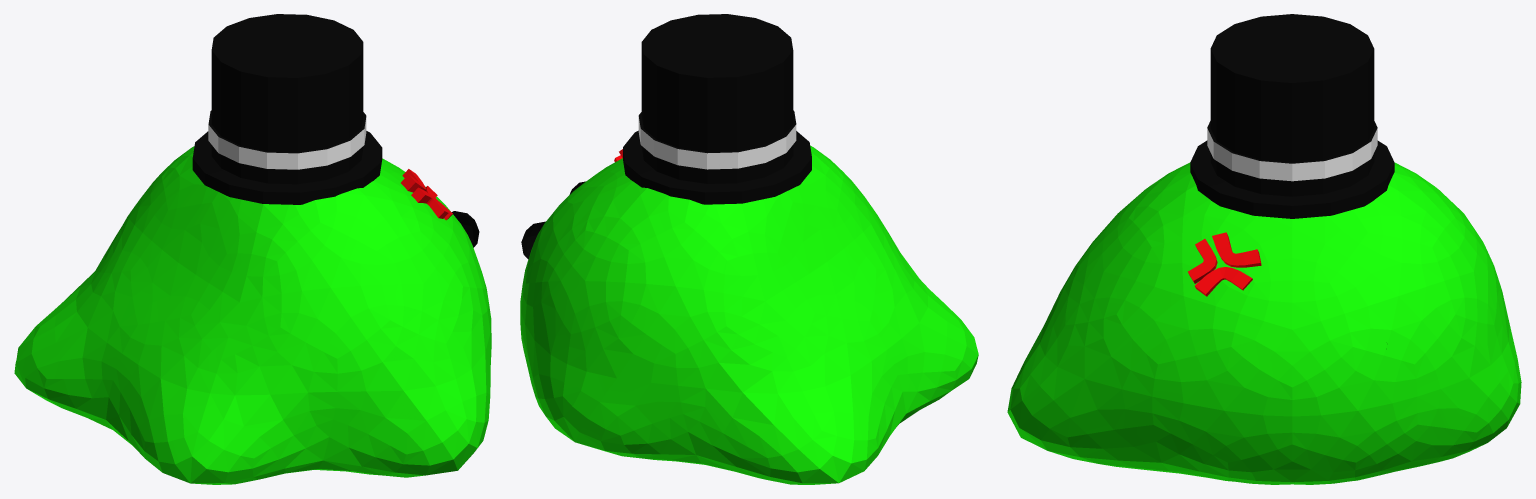
File: SlimeTopHat0.fbx
3 views of the same model, side by side, from view 1: azimuth 30°, elevation 25°; view 2: azimuth 150°, elevation 25°; view 3: azimuth 270°, elevation 25° (orthographic). The views are drawn at different scales.
Visible parts, largest first — view 1: SLIME.002; view 2: SLIME.002; view 3: SLIME.002.
Part boxes in pixels (x1,y1,x2,y2): SLIME.002: [14, 14, 491, 484]; SLIME.002: [520, 14, 978, 484]; SLIME.002: [1007, 14, 1521, 484].
Bounding box in the file's own units: 90.36 × 82.25 × 99.79.
